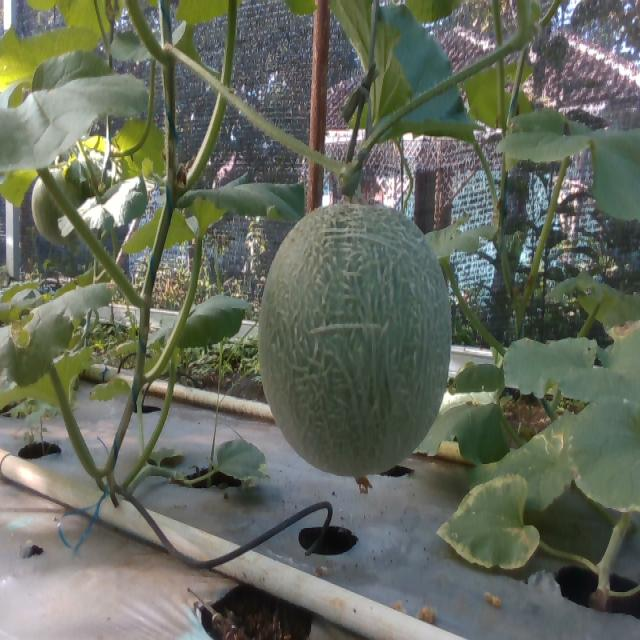melon: (259, 204, 451, 478)
